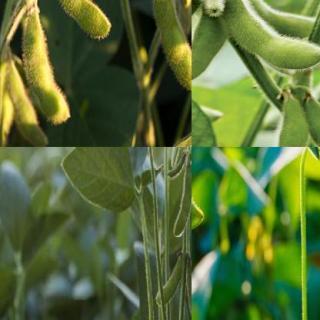soya: (225, 0, 319, 72), (22, 13, 70, 126), (149, 0, 191, 91), (5, 62, 50, 146), (46, 0, 112, 41), (192, 18, 228, 88), (255, 0, 312, 38), (156, 253, 182, 306), (173, 170, 191, 238), (194, 0, 228, 17), (170, 147, 186, 167)
